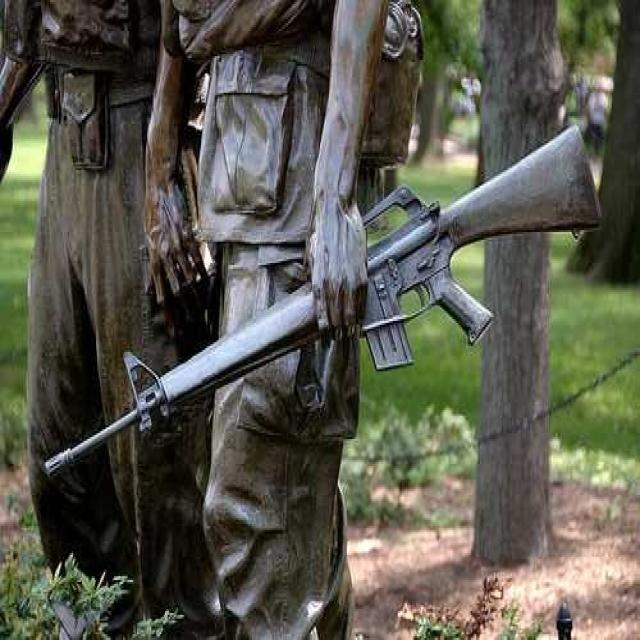heavyweapon: (33, 94, 615, 546)
